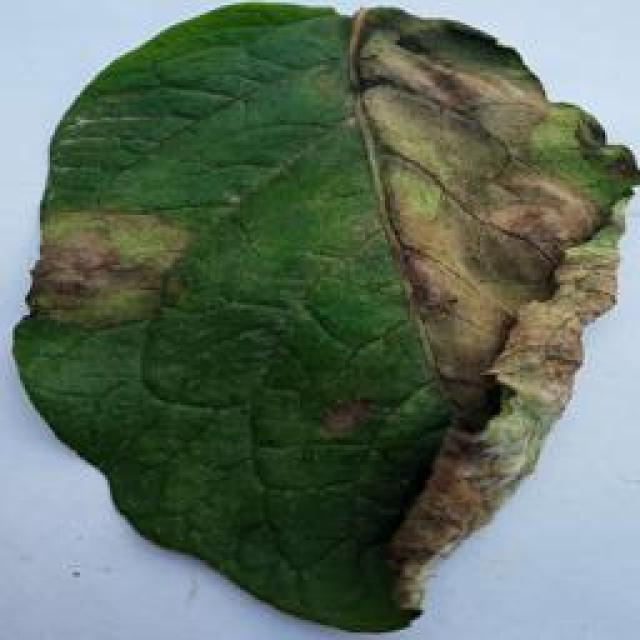Potato_Late_Blight: (16, 6, 630, 632)
